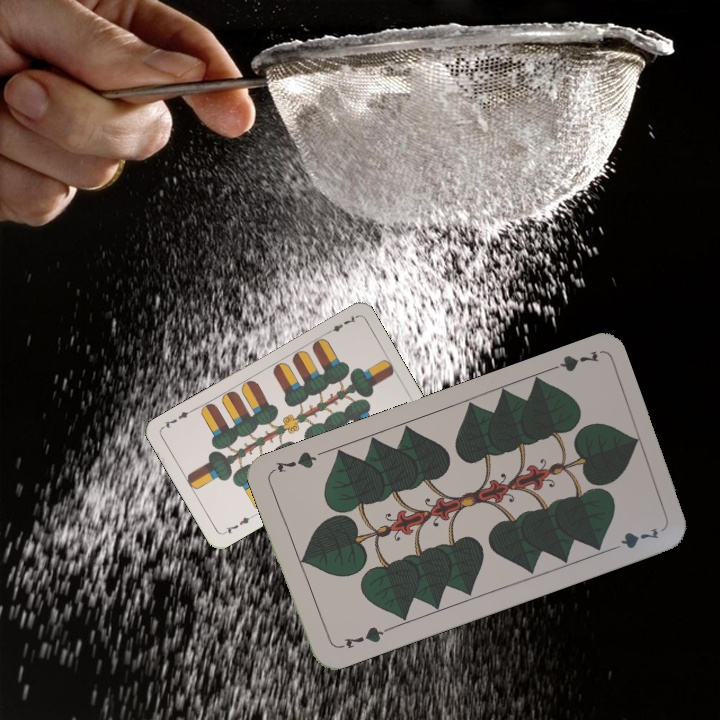E7: (220, 511, 256, 537), (322, 312, 359, 337)
G7: (333, 622, 391, 652), (542, 346, 602, 375)
